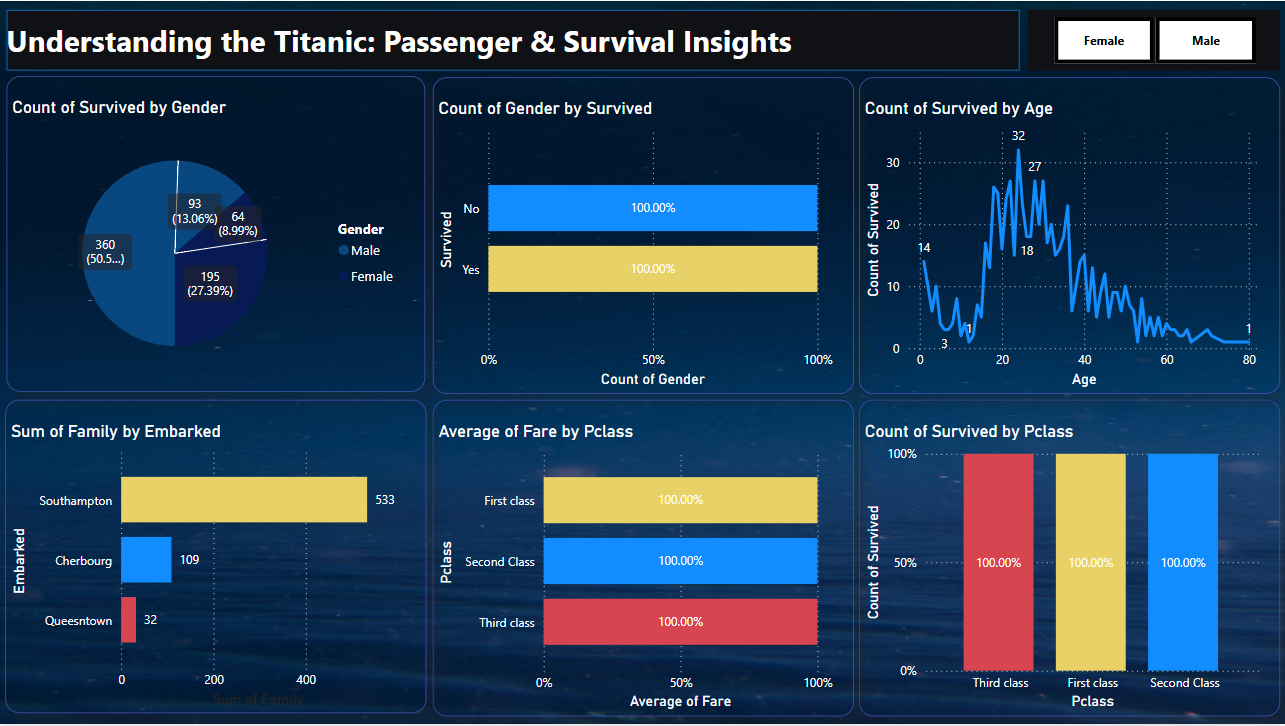

The page's visual inventory and layout, read from the dashboard file:
{"tool":"powerbi","page":{"name":"Page 1","canvas":[1280,720],"ordinal":0},"visuals":[{"type":"pieChart","title":"Count of Survived by Gender ","fields":{"Series":["Titanic.Survived"],"Category":["Titanic.Gender"],"Y":["CountNonNull(Titanic.Survived)"]},"box":[7.2,75,417,314.5],"z":0},{"type":"hundredPercentStackedColumnChart","fields":{"Y":["CountNonNull(Titanic.Survived)"],"Category":["Titanic.Pclass"]},"box":[856.5,396.7,419.3,314.9],"z":1000},{"type":"hundredPercentStackedBarChart","fields":{"Category":["Titanic.Survived"],"Y":["CountNonNull(Titanic.Gender)"]},"box":[432,75.3,419.3,314.9],"z":2000},{"type":"lineChart","fields":{"Category":["Titanic.Age"],"Y":["CountNonNull(Titanic.Survived)"]},"box":[856.5,75.3,419.3,314.9],"z":3000},{"type":"hundredPercentStackedBarChart","fields":{"Category":["Titanic.Pclass"],"Y":["Avg(Titanic.Fare)"]},"box":[432,396.7,419.3,314.9],"z":4000},{"type":"barChart","fields":{"Category":["Titanic.Embarked"],"Y":["Sum(Titanic.Family)"]},"box":[5.8,396.7,419.3,312.3],"z":5000},{"type":"shape","box":[7.2,8.7,1008.5,60.6],"z":6000},{"type":"slicer","fields":{"Values":["Titanic.Gender"]},"box":[1024.4,8.7,251,60.6],"z":7000}]}

Visuals, with their boxes in screenshot pixels (x1, y1, x2, y2), scaled from the page's 1280x720 canvas onto the 1285x726 screenshot:
"Count of Survived by Gender " pieChart: (7,76,426,393)
hundredPercentStackedColumnChart - CountNonNull(Titanic.Survived) x Titanic.Pclass: (860,400,1281,718)
hundredPercentStackedBarChart - Titanic.Survived x CountNonNull(Titanic.Gender): (434,76,855,393)
lineChart - Titanic.Age x CountNonNull(Titanic.Survived): (860,76,1281,393)
hundredPercentStackedBarChart - Titanic.Pclass x Avg(Titanic.Fare): (434,400,855,718)
barChart - Titanic.Embarked x Sum(Titanic.Family): (6,400,427,715)
shape: (7,9,1020,70)
slicer - Titanic.Gender: (1028,9,1280,70)
